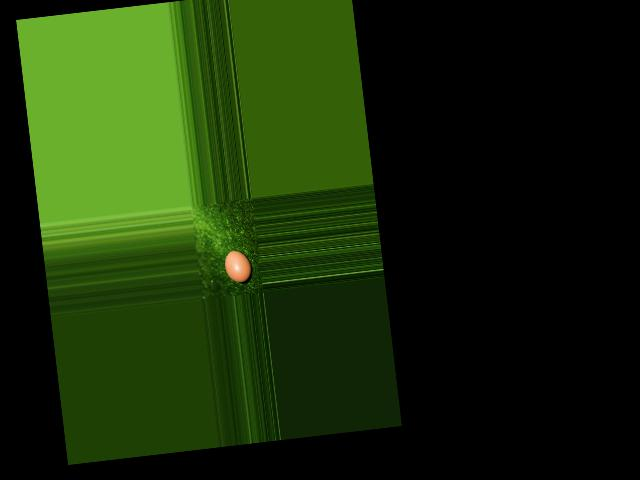egg: (223, 248, 253, 283)
